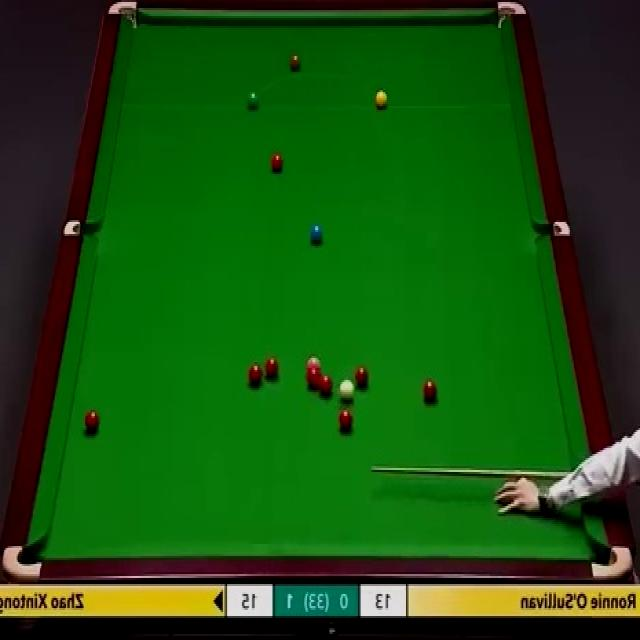blue-ball: (310, 222, 325, 244)
brown-ball: (289, 52, 301, 72)
green-ball: (247, 89, 260, 110)
pink-ball: (306, 356, 322, 370)
red-ball: (247, 362, 264, 386), (84, 408, 100, 433), (423, 378, 438, 403), (338, 409, 353, 432), (306, 367, 322, 388), (270, 152, 285, 173), (354, 367, 369, 388), (319, 376, 333, 396), (265, 358, 279, 378)
white-ball: (339, 379, 355, 402)
yellow-ball: (375, 88, 388, 109)
